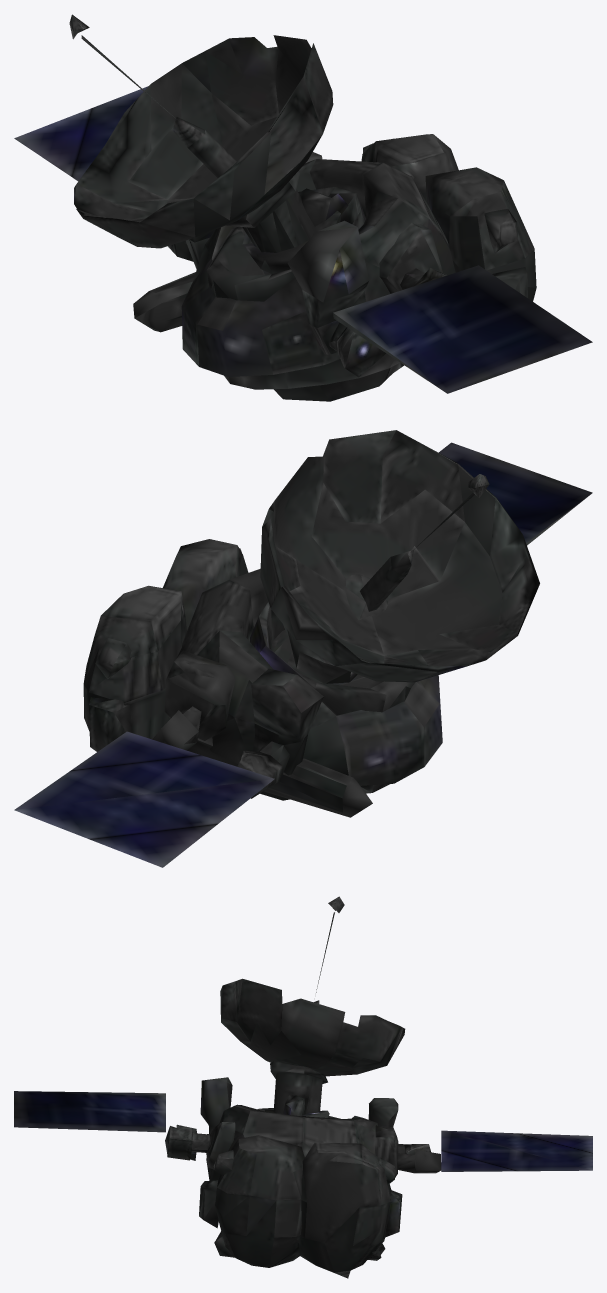
The model's file is sattelite_4.glb.
The picture shows the model from 3 angles, top to bottom: view 1: azimuth 30°, elevation 25°; view 2: azimuth 150°, elevation 25°; view 3: azimuth 270°, elevation 25°; orthographic projection. The views are drawn at different scales.
Size of the model in its own units: 0.5312 by 0.5195 by 1.
1 material, 1 textured.
